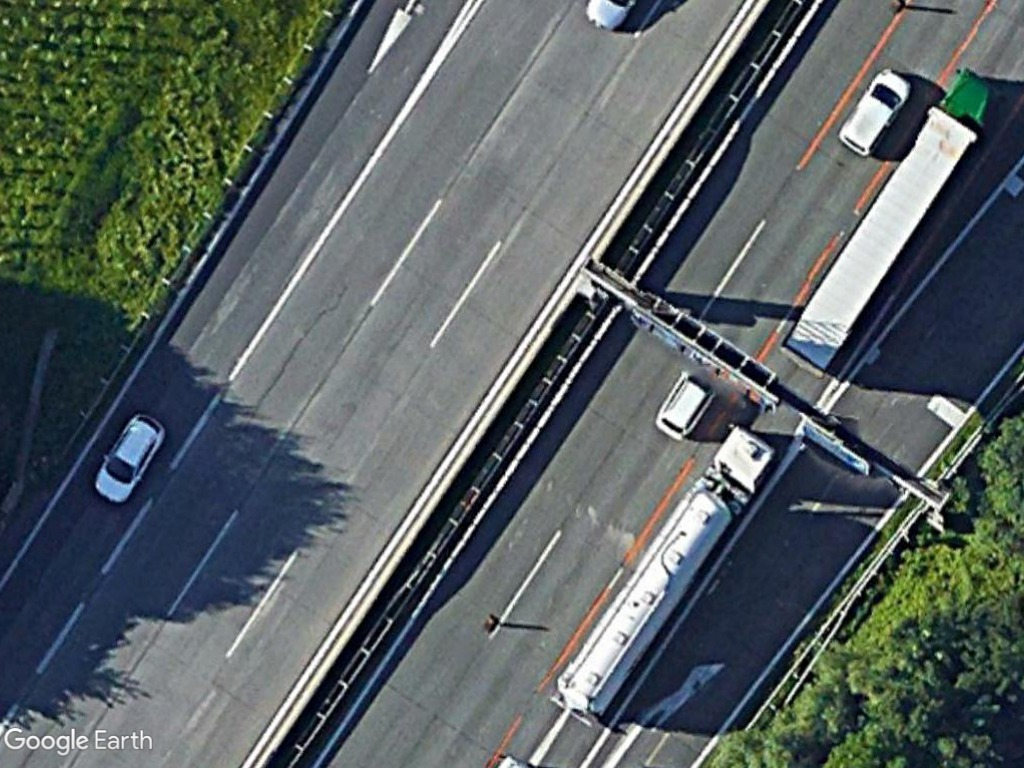car: (88, 402, 170, 509), (835, 61, 917, 160)
longvehicle: (546, 420, 774, 730), (778, 61, 994, 375)
